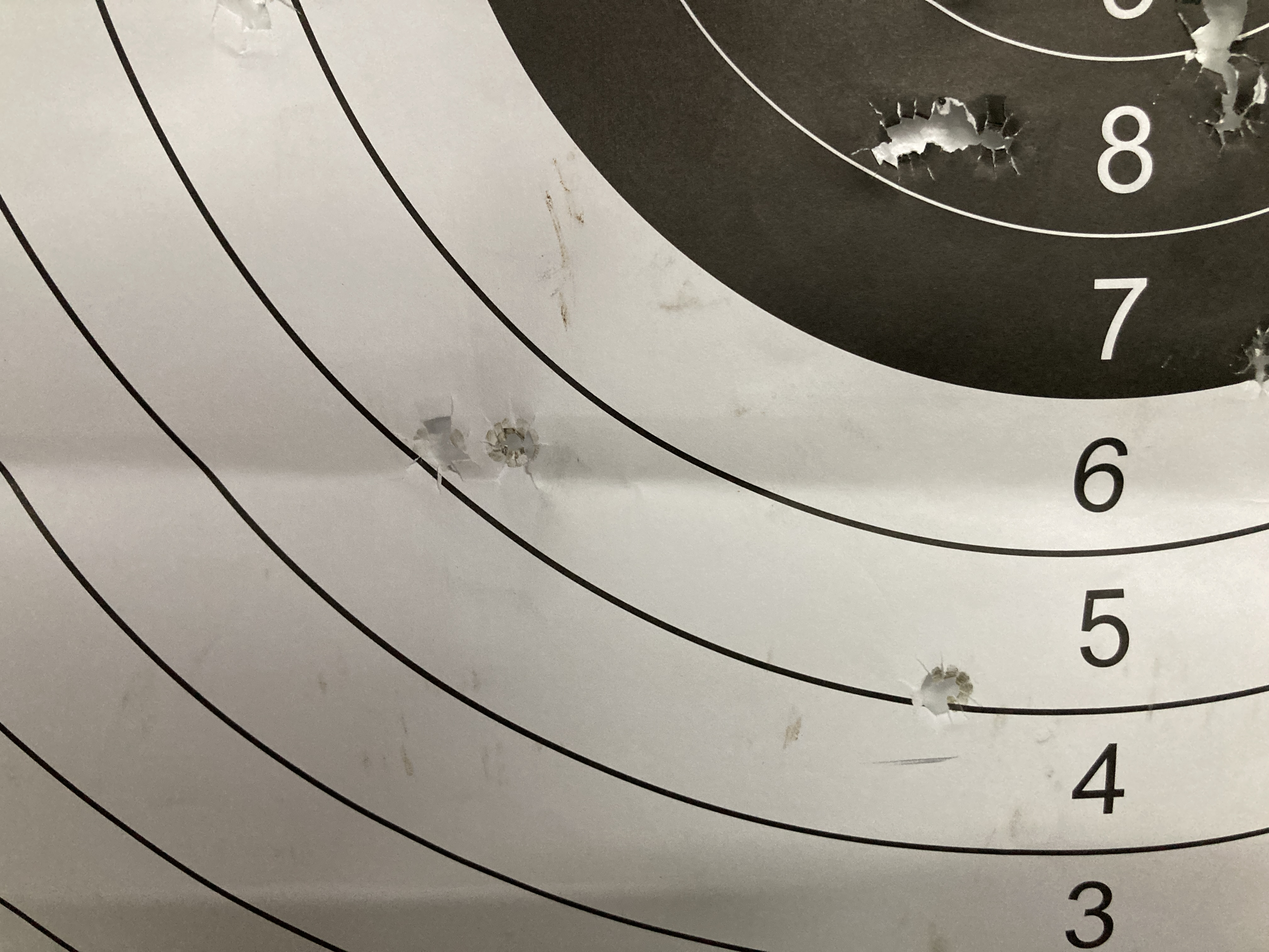hole: (846, 92, 963, 216), (945, 81, 1047, 183), (388, 392, 477, 498), (884, 648, 975, 746), (1180, 4, 1269, 76), (486, 405, 549, 479), (1195, 89, 1269, 152), (1222, 300, 1269, 391)
